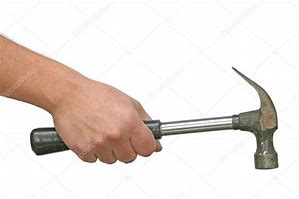hammer: (29, 64, 283, 171)
